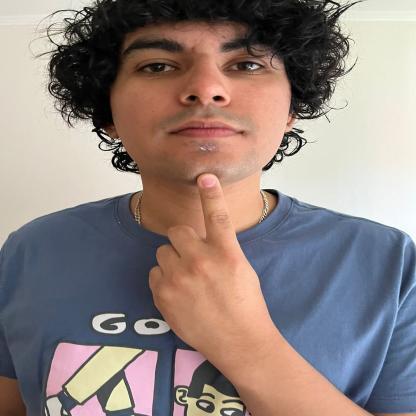T: (144, 168, 267, 349)
